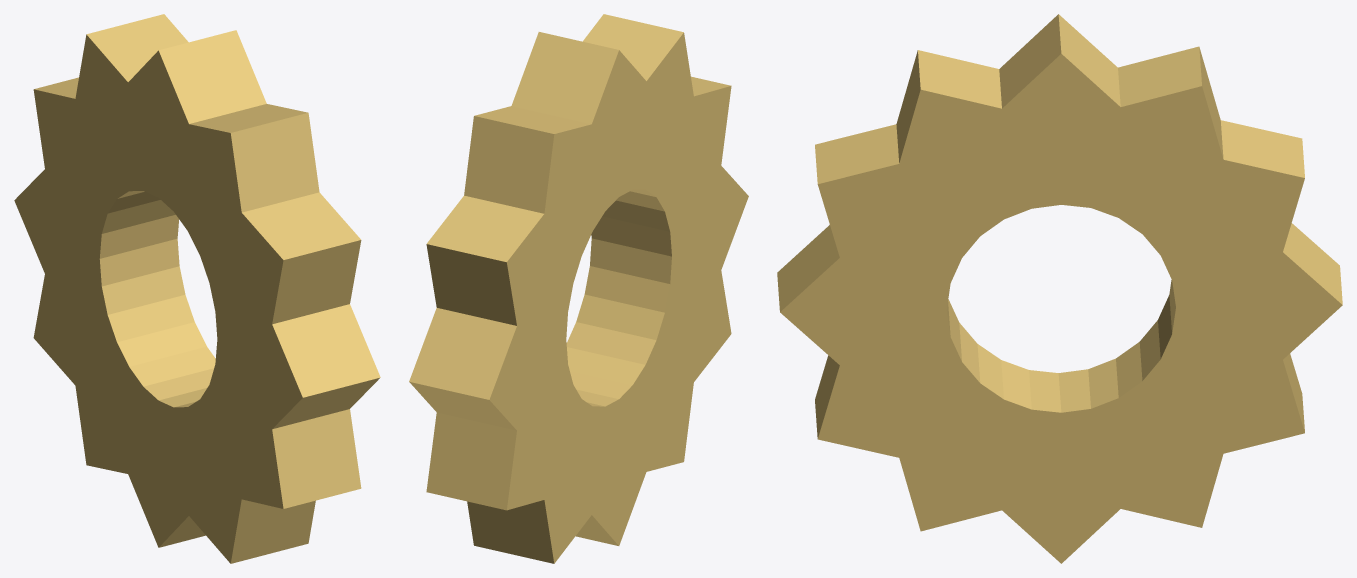
Rendered from gear.fbx.
The picture shows the model from 3 angles, left to right: view 1: azimuth 30°, elevation 25°; view 2: azimuth 150°, elevation 25°; view 3: azimuth 270°, elevation 25°; orthographic projection. The views are drawn at different scales.
Visible parts, largest first — view 1: GearRight; view 2: GearRight; view 3: GearRight.
Boxes of the visible parts, x1,y1,x2,y2 form: GearRight: (14, 14, 380, 563); GearRight: (409, 14, 748, 563); GearRight: (777, 14, 1342, 563).
Size of the model in its own units: 10.61 by 54 by 54.24.
